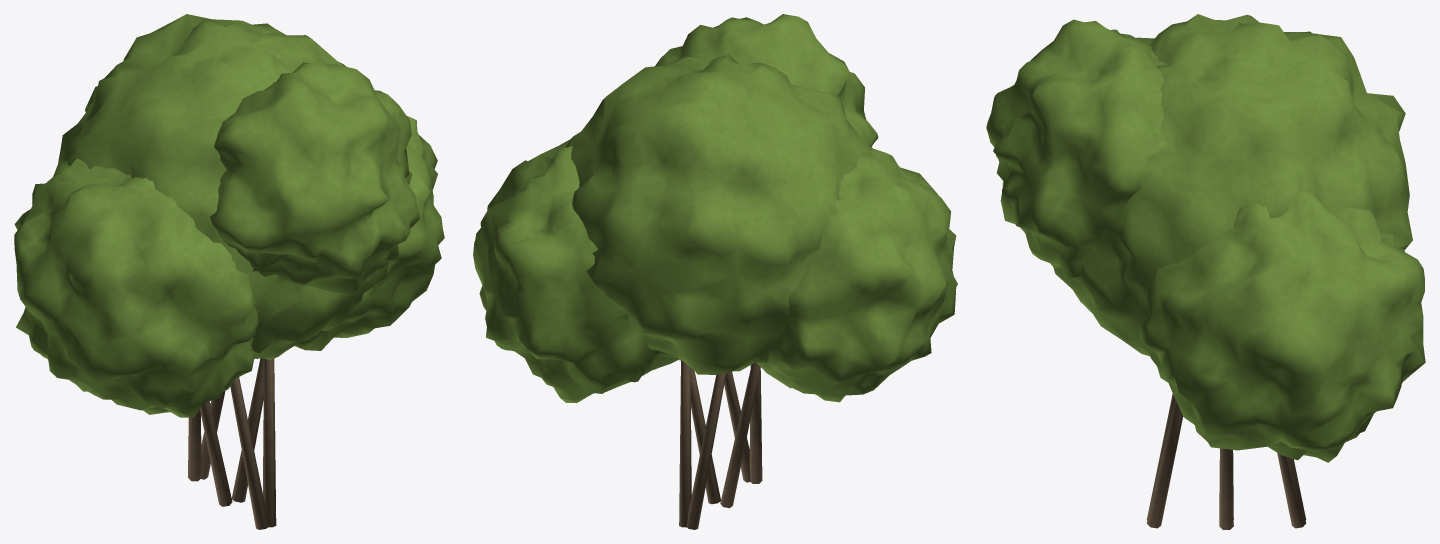
Rendered from hazel.glb.
3 views of the same model, side by side, from view 1: azimuth 30°, elevation 25°; view 2: azimuth 150°, elevation 25°; view 3: azimuth 270°, elevation 25° (orthographic). The views are drawn at different scales.
Parts seen in each view (by area): view 1: hazel; view 2: hazel; view 3: hazel.
Part boxes in pixels (x1=…): hazel: x1=14, y1=14, x2=444, y2=529; hazel: x1=473, y1=14, x2=957, y2=529; hazel: x1=986, y1=14, x2=1425, y2=529.
Size of the model in its own units: 3.02 by 3.02 by 2.4.
1 material, 1 textured.
